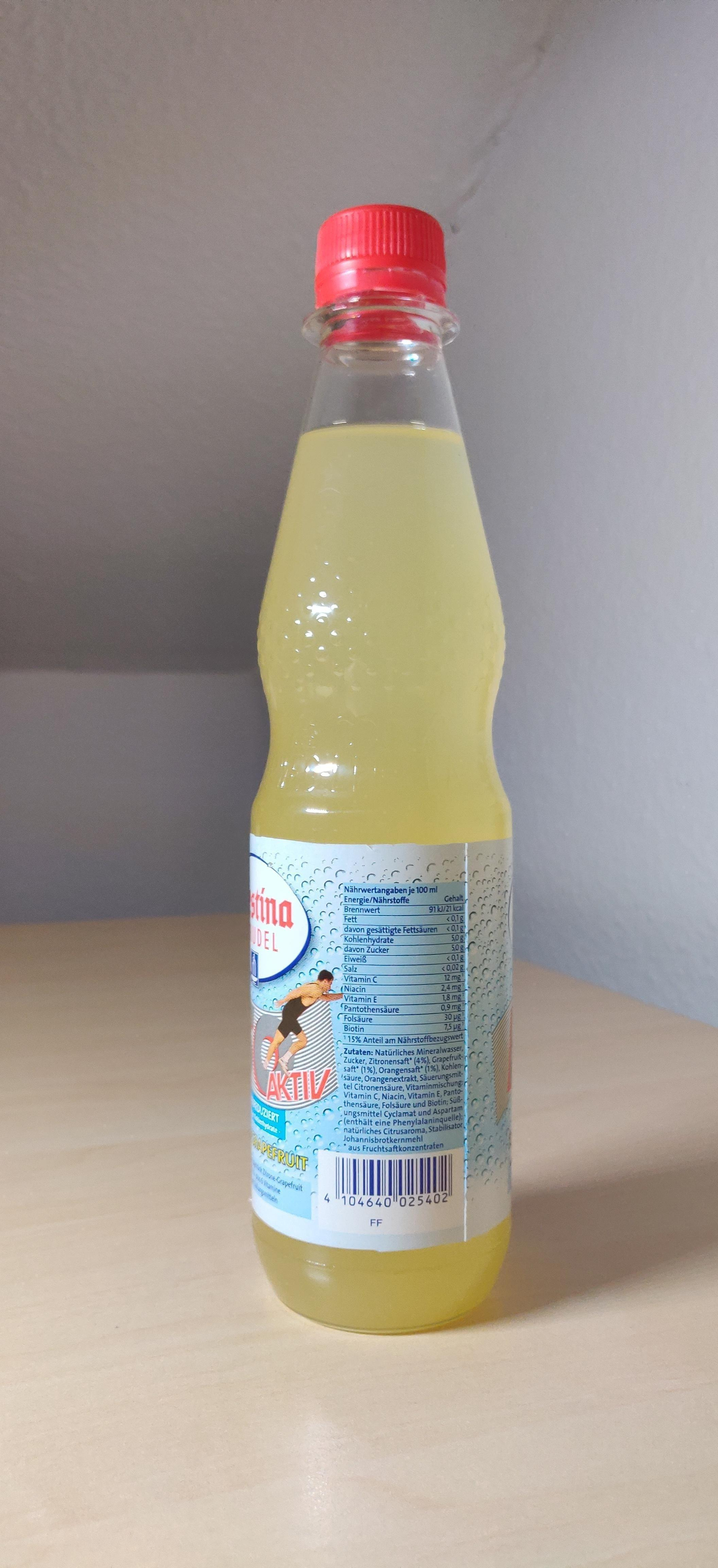bottle-plastic: (246, 202, 515, 1338)
